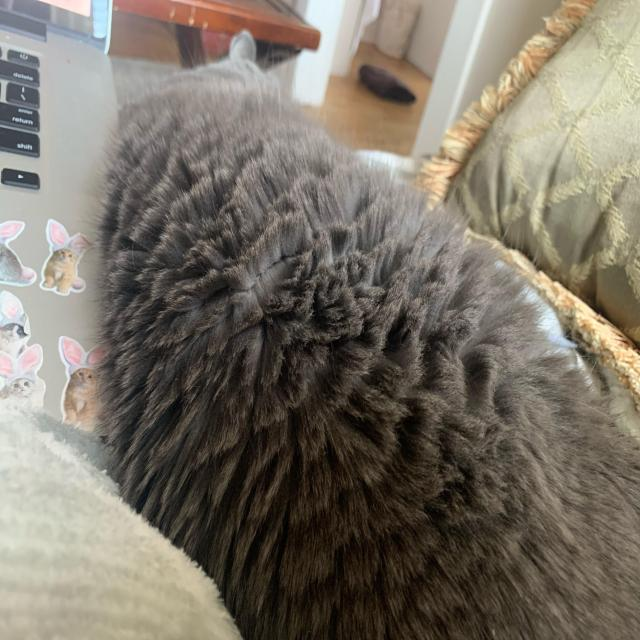Healthy skin: (138, 126, 318, 364), (386, 310, 527, 612), (176, 404, 364, 529)
